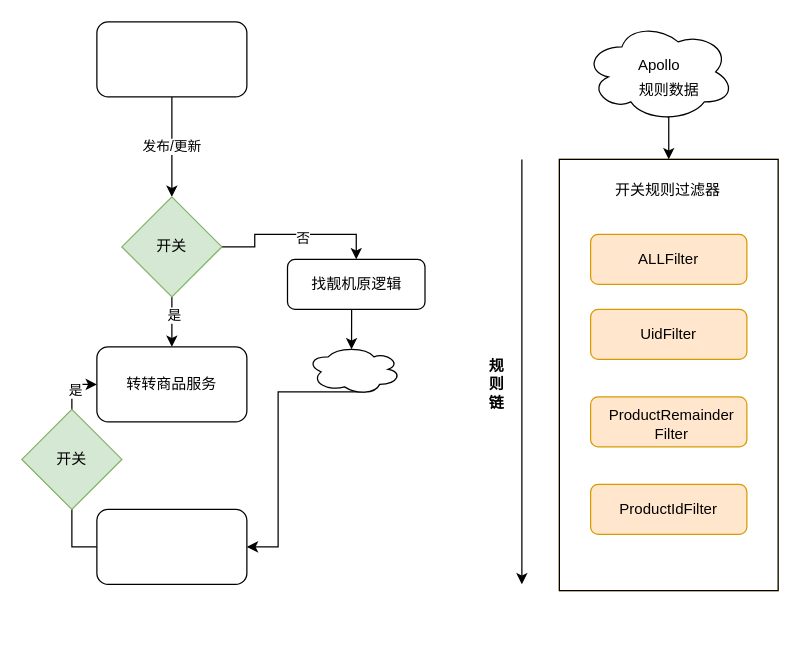
Image size: 800x645. Some labels were removed from this diagram. The box of each missing label's shape, as (x1, y1, x2, y2) in pixels:
MQ: (308, 346, 403, 397)
转转商品消息中心: (96, 508, 247, 584)
配件供应商后台: (96, 21, 247, 97)
